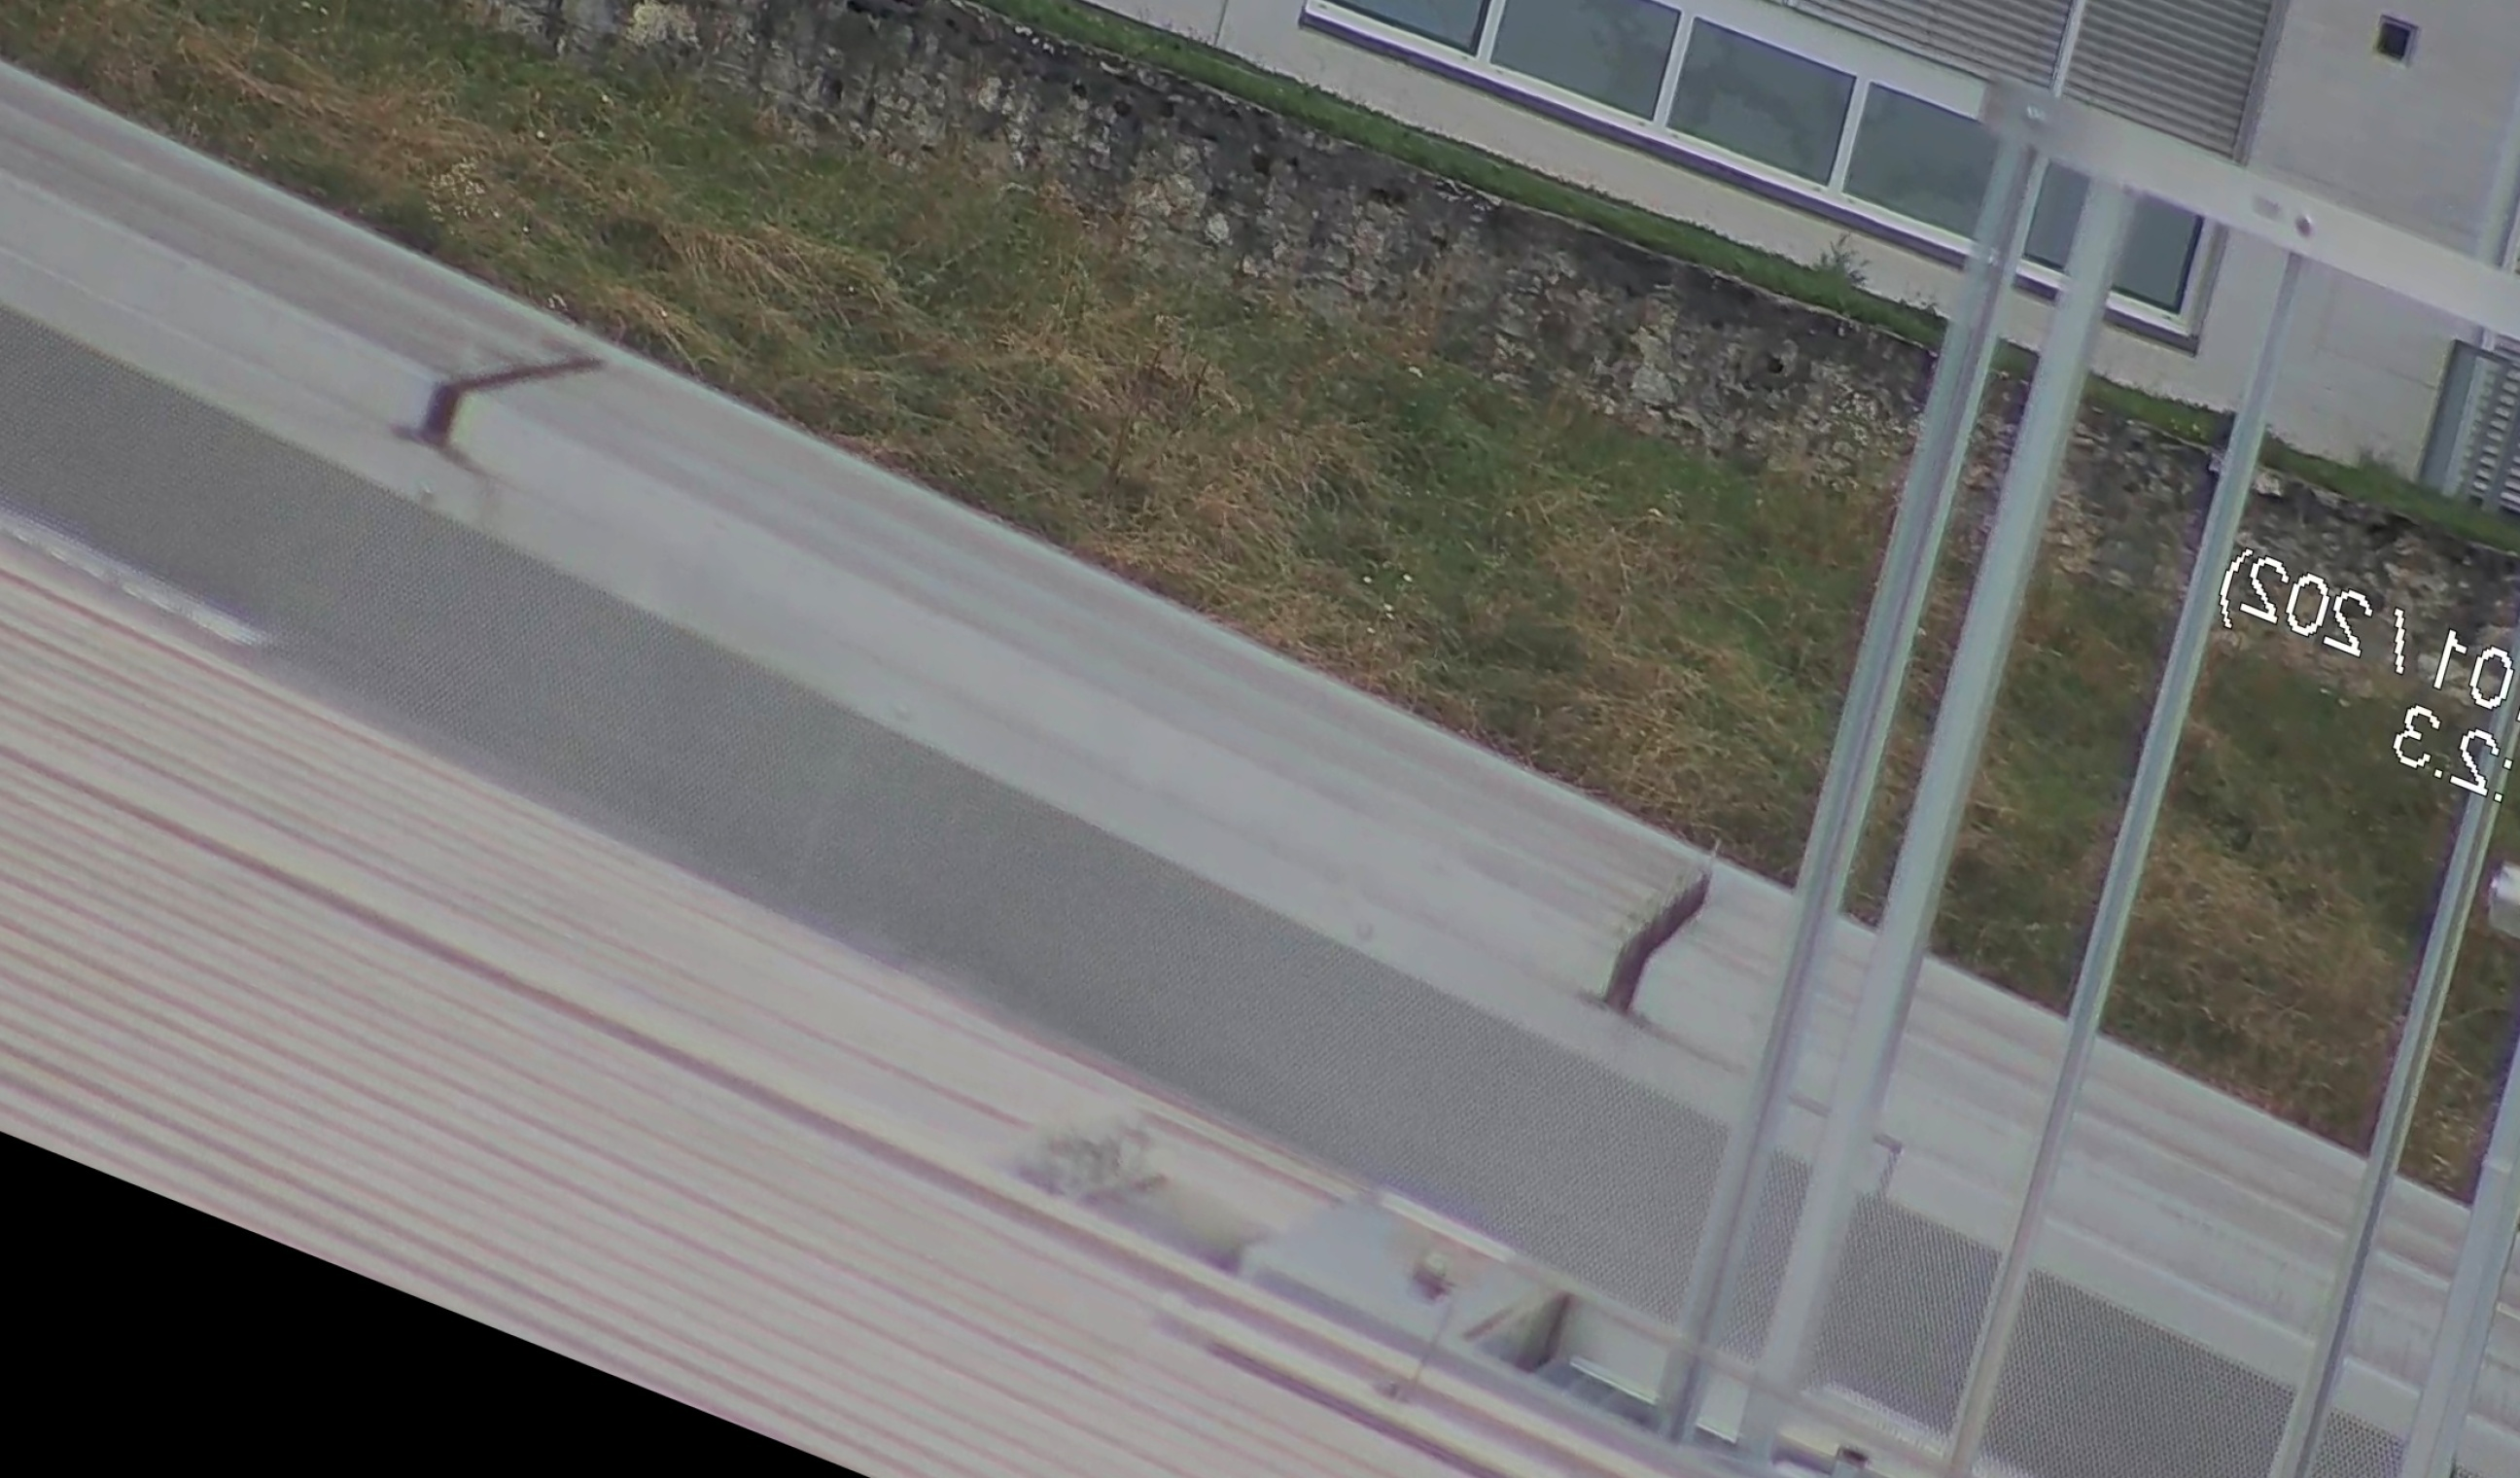Other: (1574, 815, 1750, 1065)
